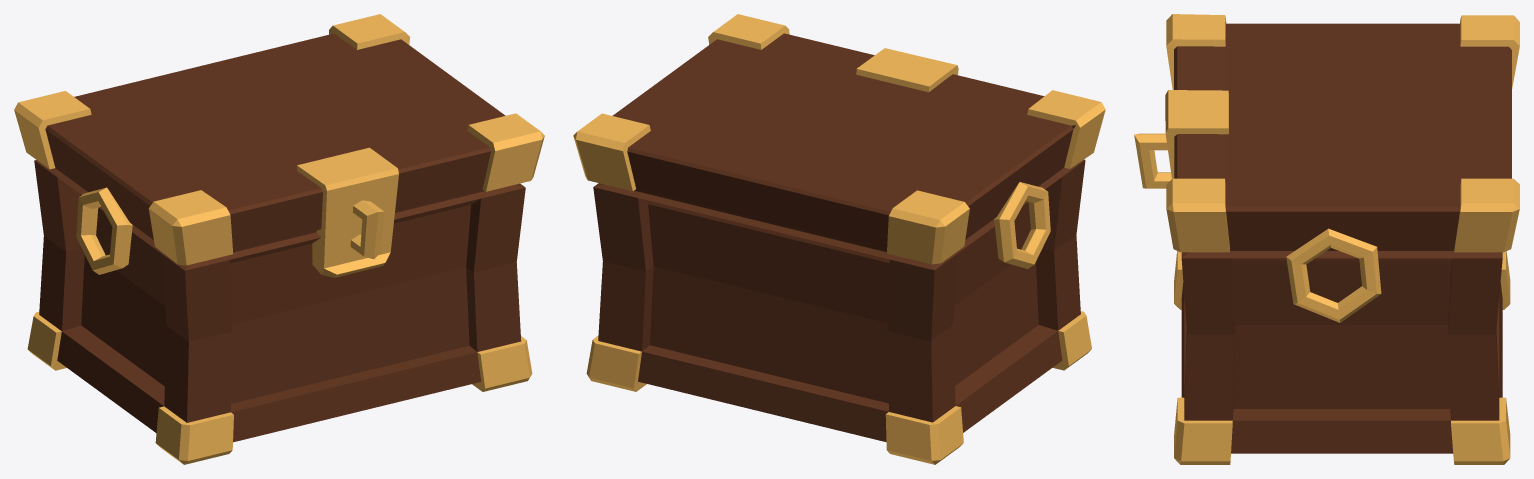
Rendered from GEO_chest_v01.fbx.
3 renders of one model, left to right at view 1: azimuth 30°, elevation 25°; view 2: azimuth 150°, elevation 25°; view 3: azimuth 270°, elevation 25°, orthographic. The views are drawn at different scales.
Visible parts, largest first — view 1: chest_lowpoly_GEO_01; view 2: chest_lowpoly_GEO_01; view 3: chest_lowpoly_GEO_01.
Boxes of the visible parts, left/top/right/bottom form: chest_lowpoly_GEO_01: left=14, top=14, right=544, bottom=464; chest_lowpoly_GEO_01: left=573, top=14, right=1105, bottom=464; chest_lowpoly_GEO_01: left=1134, top=14, right=1519, bottom=464.
Size of the model in its own units: 68.7 by 42.84 by 56.07.
